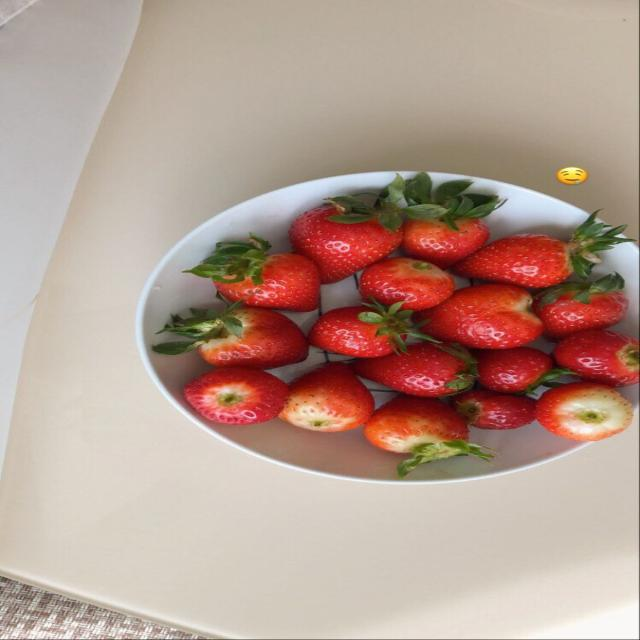strawberry: (454, 212, 632, 287), (290, 176, 404, 283), (184, 234, 320, 311), (365, 396, 493, 476), (153, 303, 308, 368), (403, 173, 503, 267), (415, 285, 542, 348), (308, 300, 430, 357), (352, 342, 475, 396), (280, 363, 374, 431), (534, 274, 628, 340), (184, 367, 288, 424), (535, 382, 632, 441), (360, 258, 455, 310), (553, 330, 639, 386), (475, 347, 572, 393), (402, 219, 490, 268), (452, 390, 535, 429)
